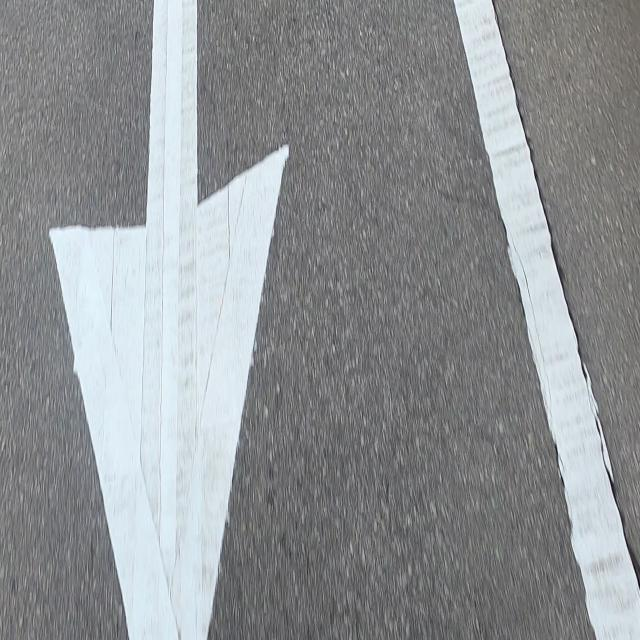Retak-Memanjang: (488, 0, 640, 599)
